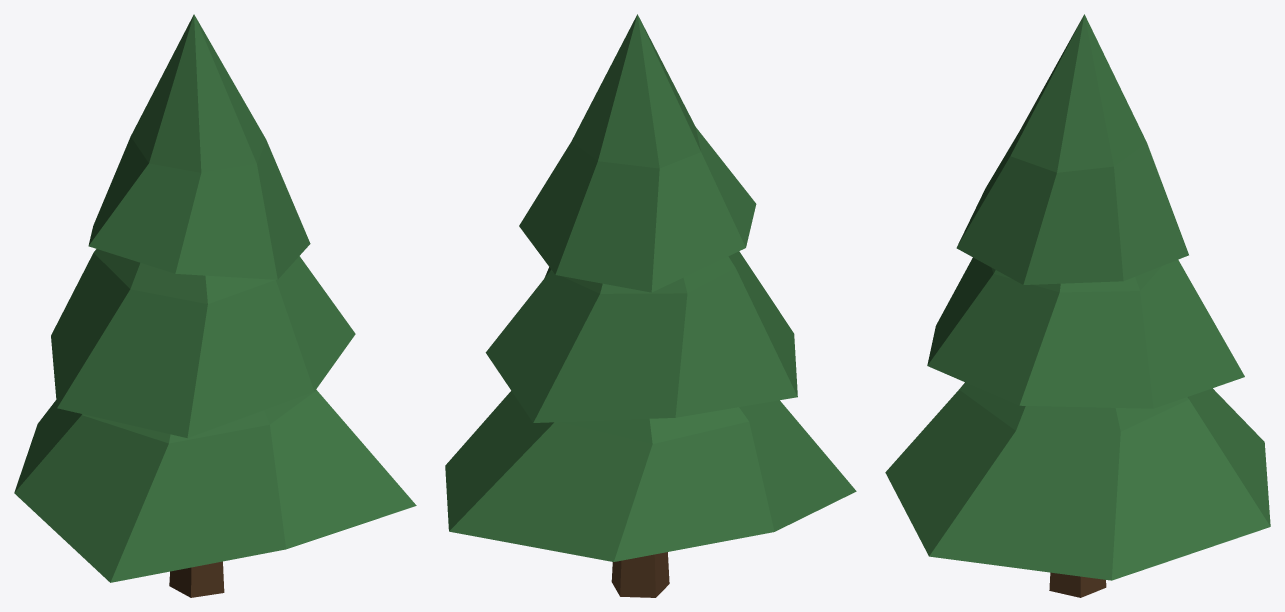
Rendered from deco_pine_s.glb.
3 renders of one model, left to right at view 1: azimuth 30°, elevation 25°; view 2: azimuth 150°, elevation 25°; view 3: azimuth 270°, elevation 25°, orthographic.
Visible parts, largest first — view 1: deco_pine_s_mesh; view 2: deco_pine_s_mesh; view 3: deco_pine_s_mesh.
Boxes of the visible parts, x1=… form: deco_pine_s_mesh: x1=14, y1=14, x2=416, y2=597; deco_pine_s_mesh: x1=445, y1=14, x2=856, y2=597; deco_pine_s_mesh: x1=885, y1=14, x2=1270, y2=597.
Size of the model in its own units: 0.1535 by 0.25 by 0.153.
